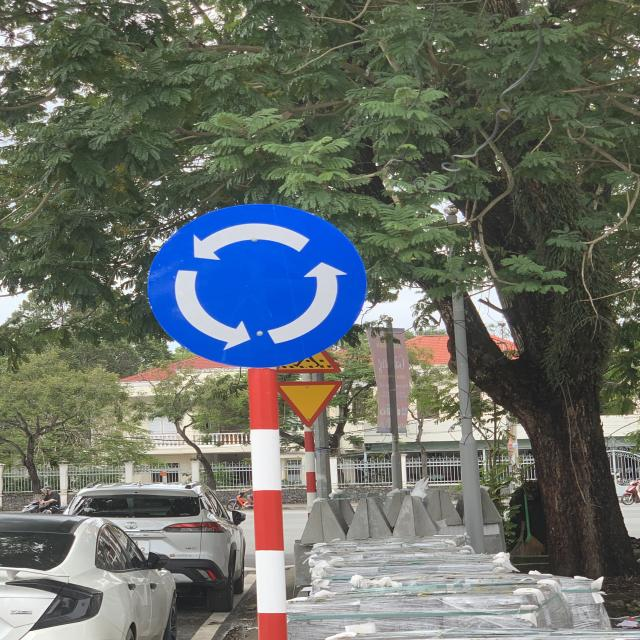Xe_Bus: (149, 198, 370, 366)
